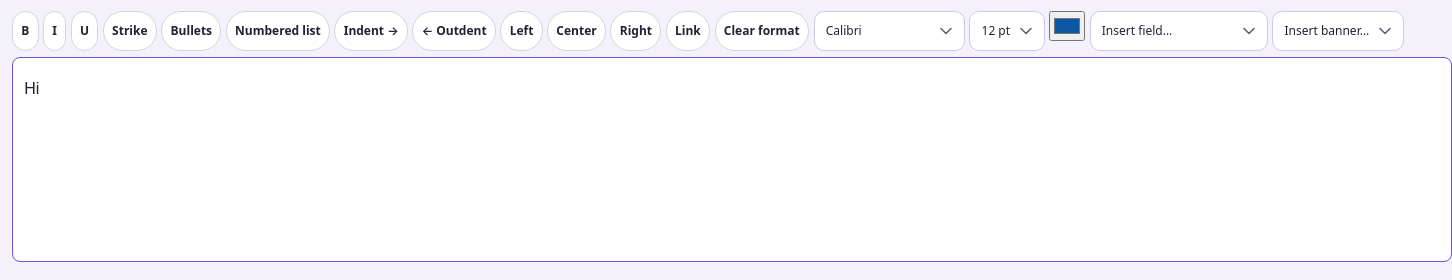
Test case: the message box › adds at the end when the cursor was never in it
Select "Expected salary (salary)" in the dropdown named "Insert field". click: point(1179, 31)
box: [1090,11,1268,51]
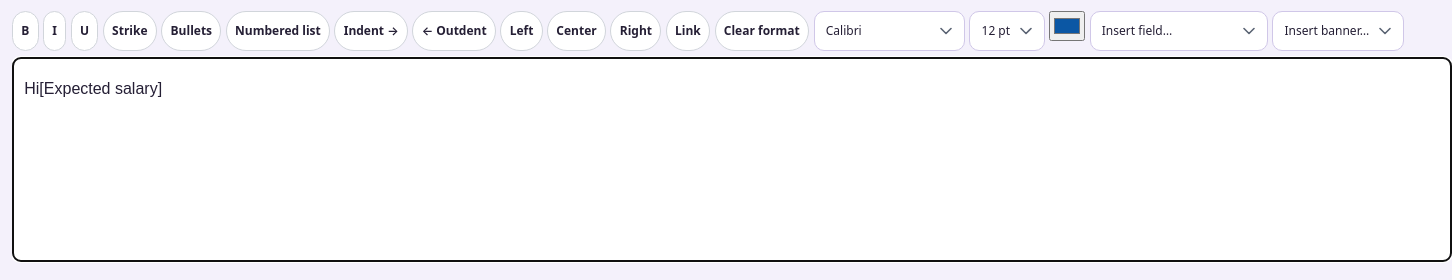
Expected: the field named "Message" reads "Hi[Expected salary]"
